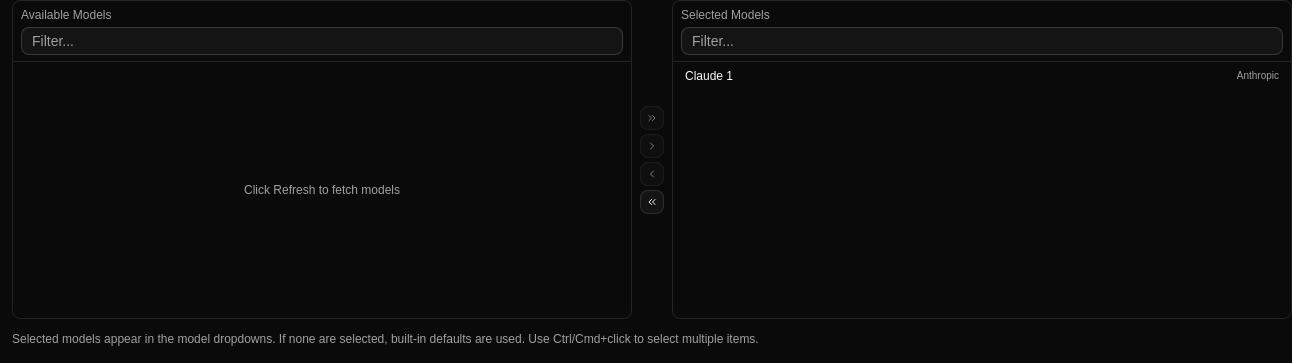
Scenario: ModelPicker › selected models panel › shows 'No matches' when filter does not match any selected model
This screenshot has width=1292, height=363.
Type "zzzzz" into the 2nd field with placeholder "Filter..." at (982, 41), box [681,27,1283,55]
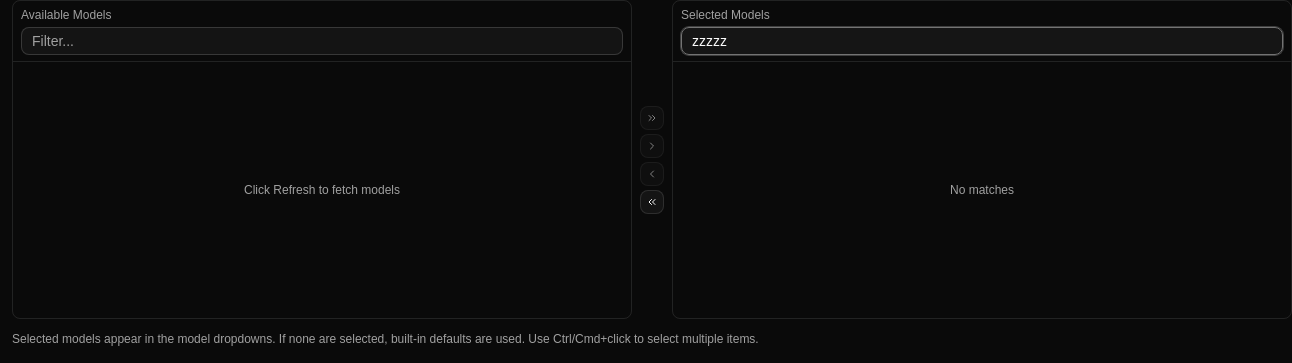
expect the text "No matches" is shown: met, box [950,183,1014,197]
